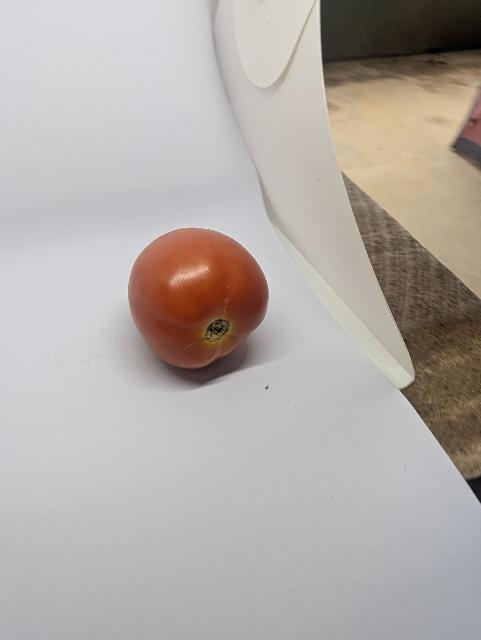red: (121, 221, 277, 379)
